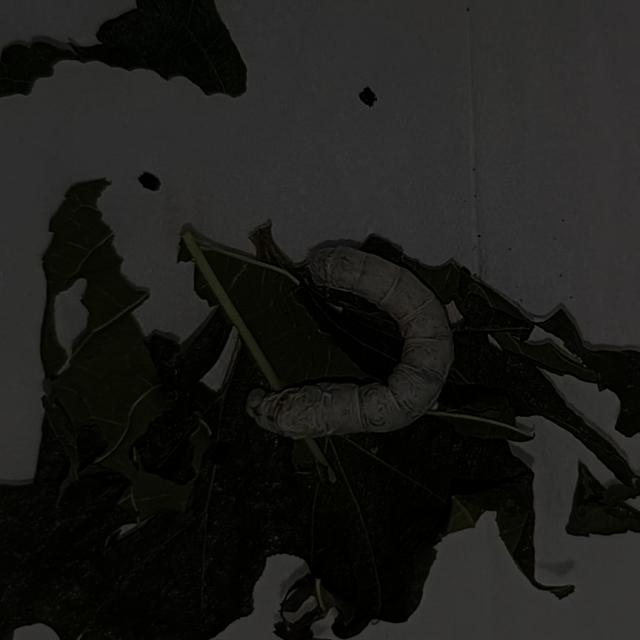Healthy: (224, 230, 508, 464)
